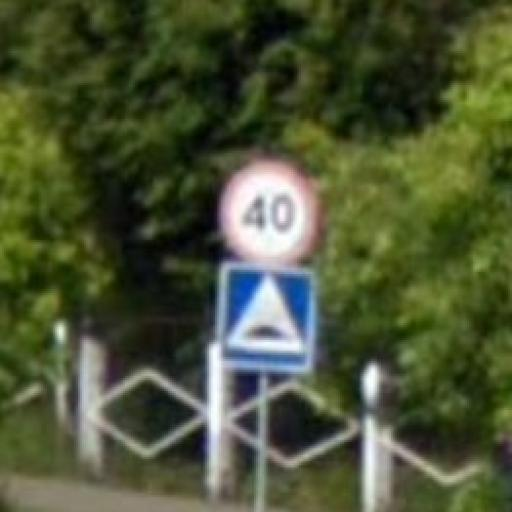traffic_sign: (216, 260, 319, 377), (216, 158, 321, 271)
